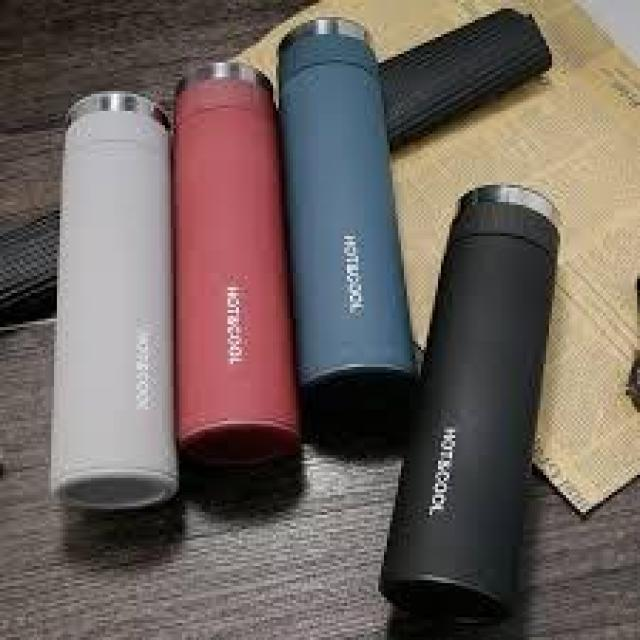bottle: (378, 176, 566, 623), (44, 84, 178, 513), (169, 57, 303, 475), (274, 14, 420, 390)
